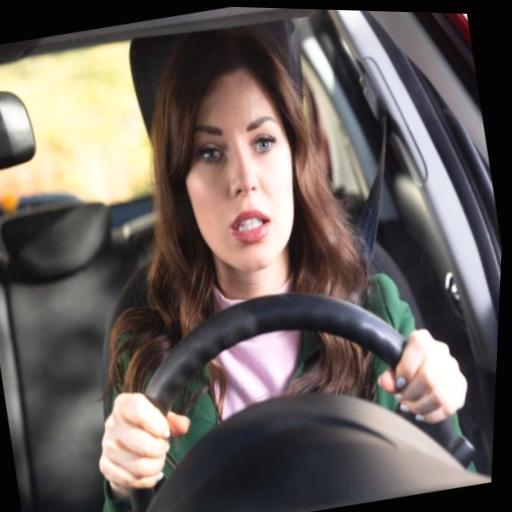Hands-on-the-Wheel: (64, 353, 211, 508), (356, 298, 487, 447)
